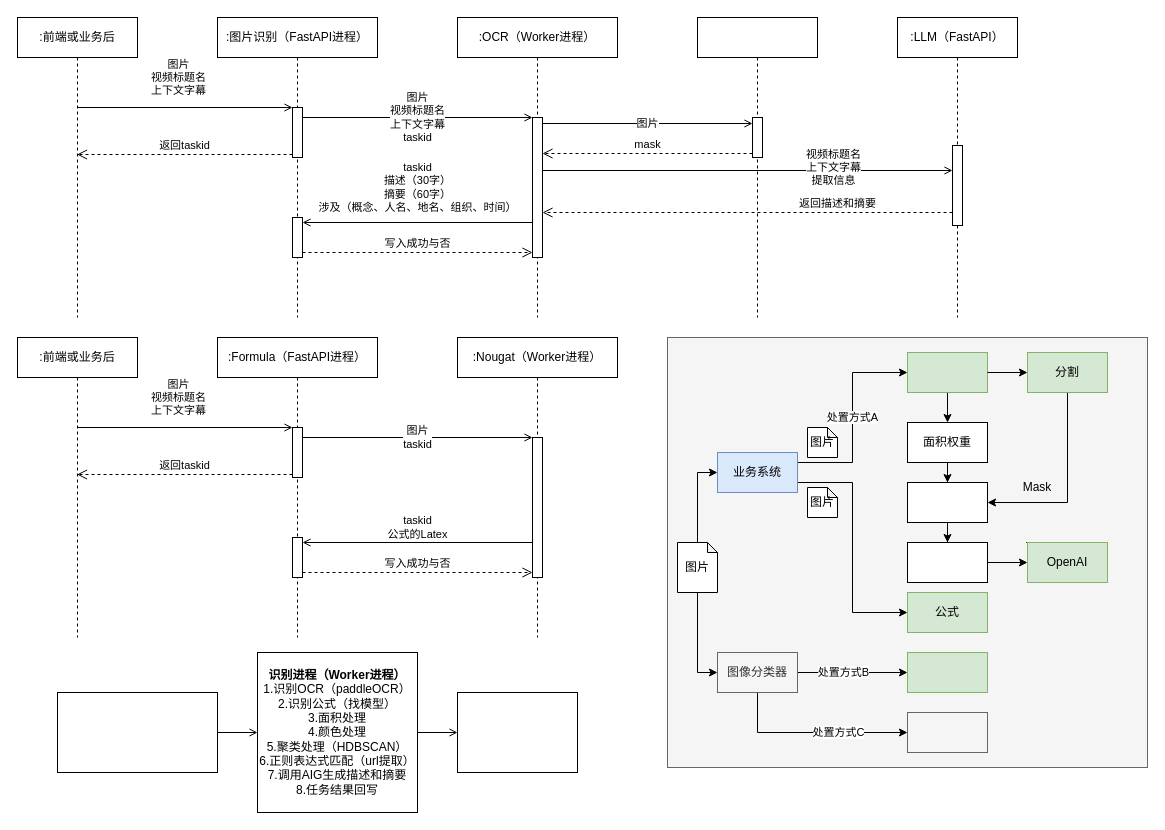
Some shapes in this 1165 by 830 pixel diagram are drawn without their labels. Here are the shapes that lost their labels. From the top down, the box of each, then its label:
(696, 16, 818, 318): :SAM（FastAPI）
(906, 352, 988, 392): OCR
(906, 482, 988, 522): 聚类
(666, 336, 1148, 768): 图片 内容 提取
(906, 542, 988, 582): 排版顺序
(906, 652, 988, 692): 针对Twitter类社交媒体
(56, 692, 218, 772): 图片服务（FastAPI进程） POST : /Image2text GET : /Image2text
(456, 692, 578, 772): OPENAI调用 调用OPENAI （后面会被替换）
(906, 712, 988, 752): 针对Chart
